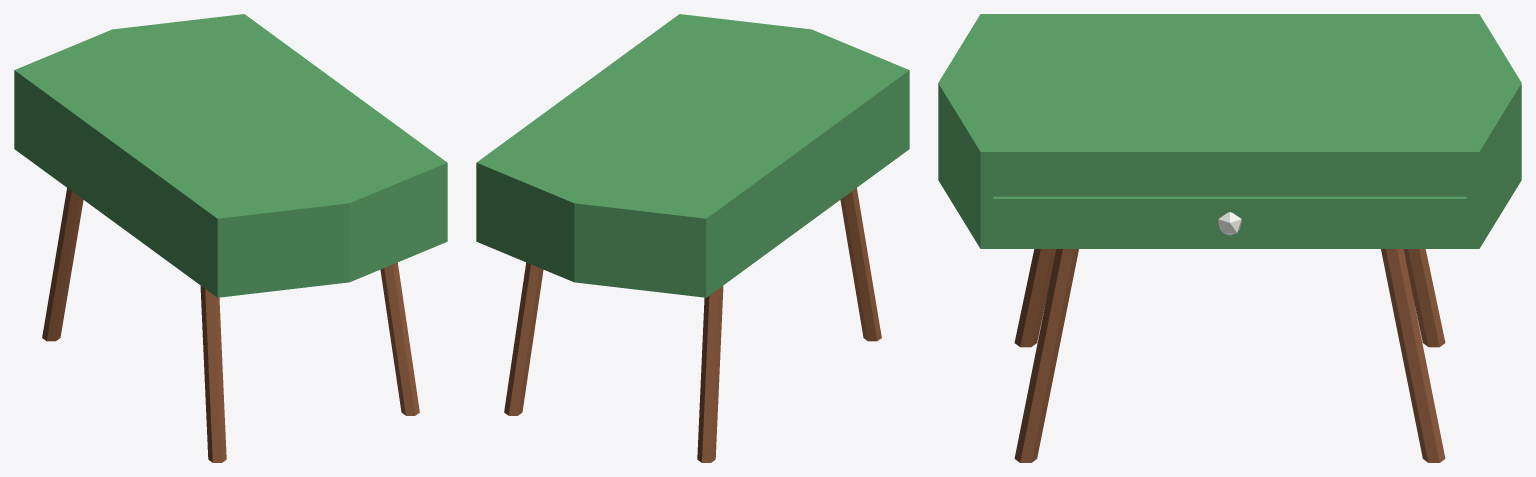
File: Drawer.fbx
3 renders of one model, left to right at view 1: azimuth 30°, elevation 25°; view 2: azimuth 150°, elevation 25°; view 3: azimuth 270°, elevation 25°, orthographic. The views are drawn at different scales.
Visible parts, largest first — view 1: Cube; view 2: Cube; view 3: Cube.
Part boxes in pixels (x1,y1,x2,y2): Cube: [14, 14, 447, 462]; Cube: [476, 14, 909, 462]; Cube: [938, 14, 1521, 462].
Bounding box in the file's own units: 210 × 215 × 358.
